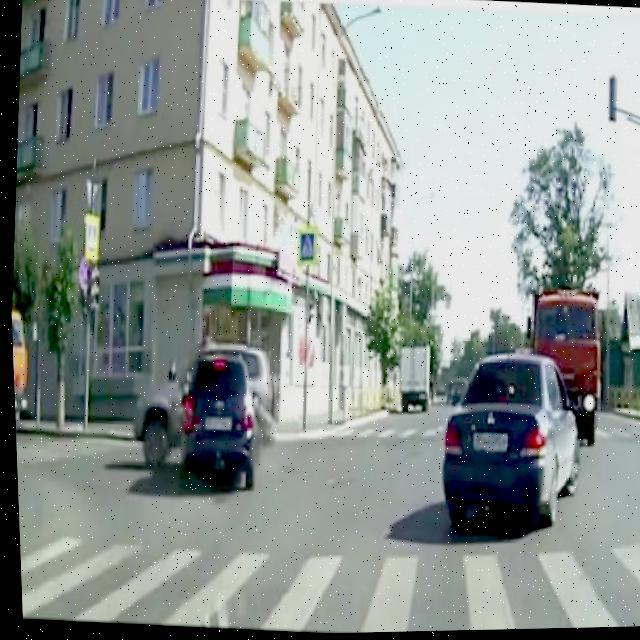Car Accident Detector - v4 Generation1 Exported: (119, 329, 278, 517)
